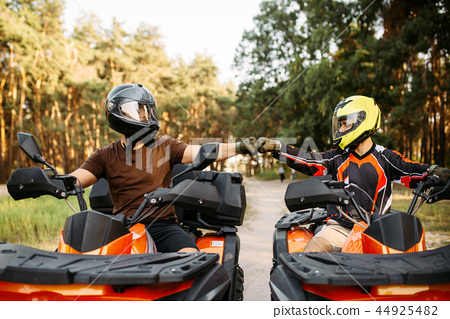helmet: (332, 99, 387, 149), (107, 84, 158, 137)
